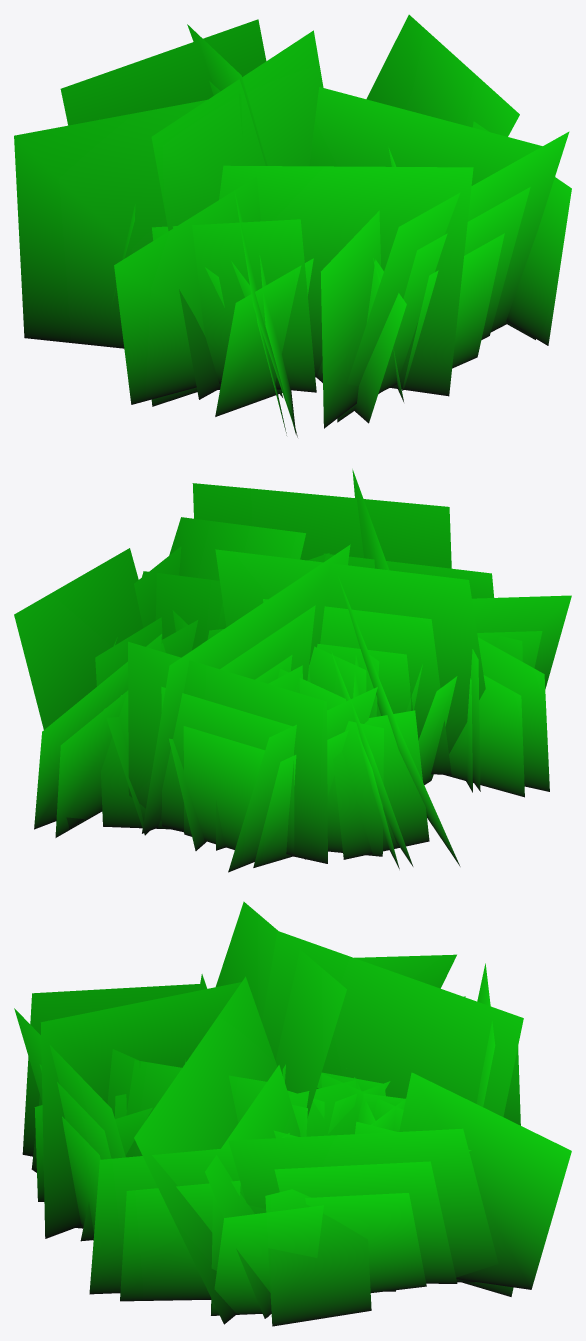
File: grass_02.fbx
3 views of the same model, one above another, from view 1: azimuth 30°, elevation 25°; view 2: azimuth 150°, elevation 25°; view 3: azimuth 270°, elevation 25° (orthographic). The views are drawn at different scales.
Parts seen in each view (by area): view 1: IL3DN_Plant_Grass_02_LOD3; view 2: IL3DN_Plant_Grass_02_LOD3; view 3: IL3DN_Plant_Grass_02_LOD3.
Part boxes in pixels (x1,y1,x2,y2): IL3DN_Plant_Grass_02_LOD3: [14, 14, 571, 437]; IL3DN_Plant_Grass_02_LOD3: [14, 469, 571, 872]; IL3DN_Plant_Grass_02_LOD3: [14, 901, 571, 1326].
Bounding box in the file's own units: 190 × 113 × 210.
